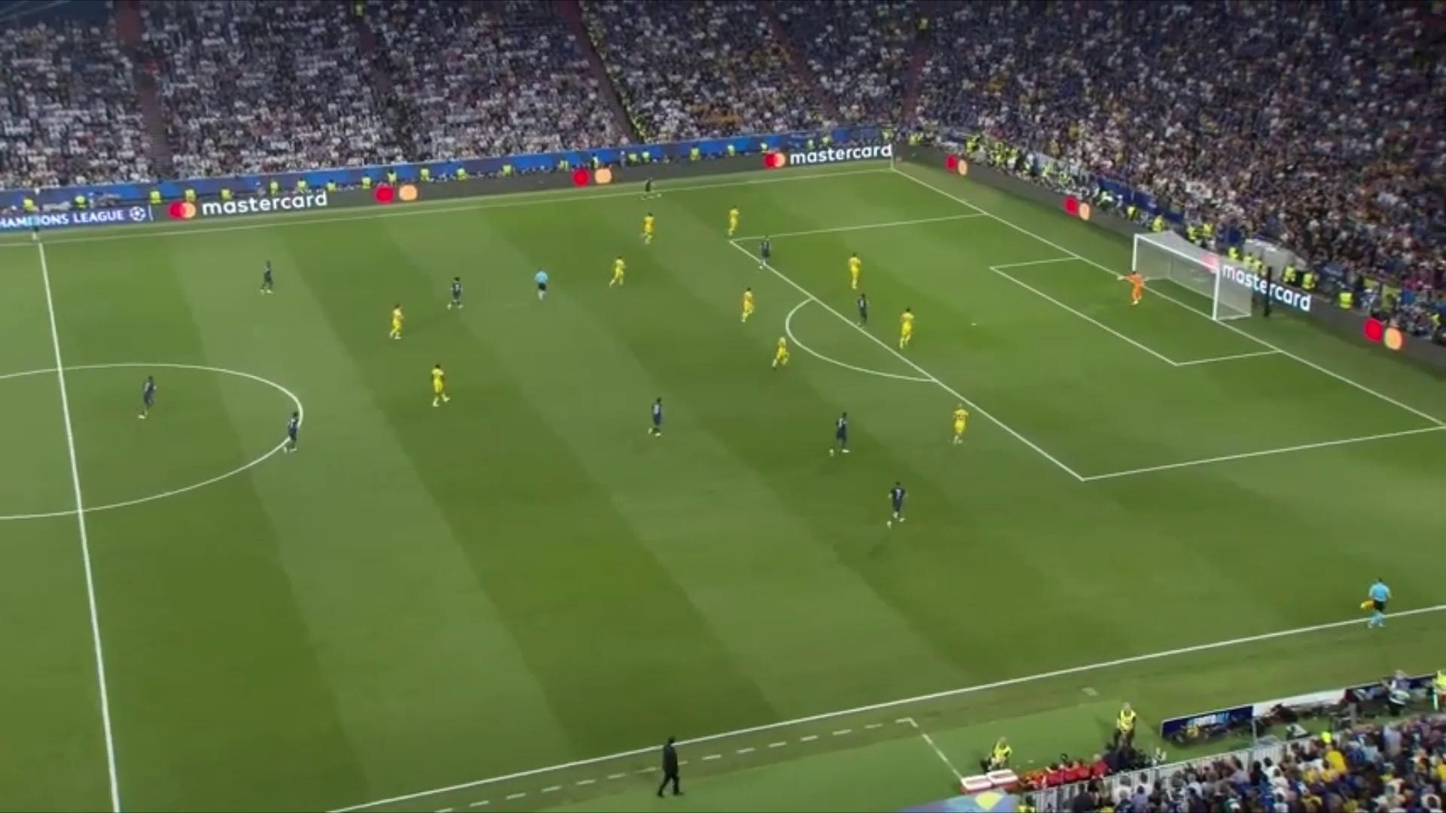ball: (657, 193, 662, 198)
player_A: (876, 480, 916, 531), (136, 372, 163, 422), (829, 411, 852, 462), (647, 392, 670, 441), (443, 273, 466, 321), (284, 409, 307, 456), (849, 294, 874, 331), (256, 258, 279, 298), (757, 233, 777, 271), (640, 177, 654, 202)
player_B: (423, 363, 451, 409), (893, 306, 918, 357), (842, 248, 869, 293), (735, 280, 757, 327), (387, 300, 408, 349), (610, 250, 632, 294), (722, 202, 744, 240), (768, 331, 790, 369), (638, 216, 661, 250), (953, 402, 968, 449)
player_B_goal_keeper: (1119, 268, 1150, 312)
referee: (1361, 574, 1397, 631), (22, 205, 46, 247), (532, 268, 553, 303)
